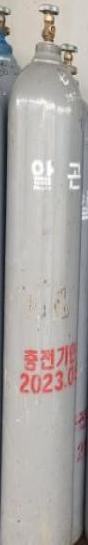cylinder: (1, 1, 88, 545)
